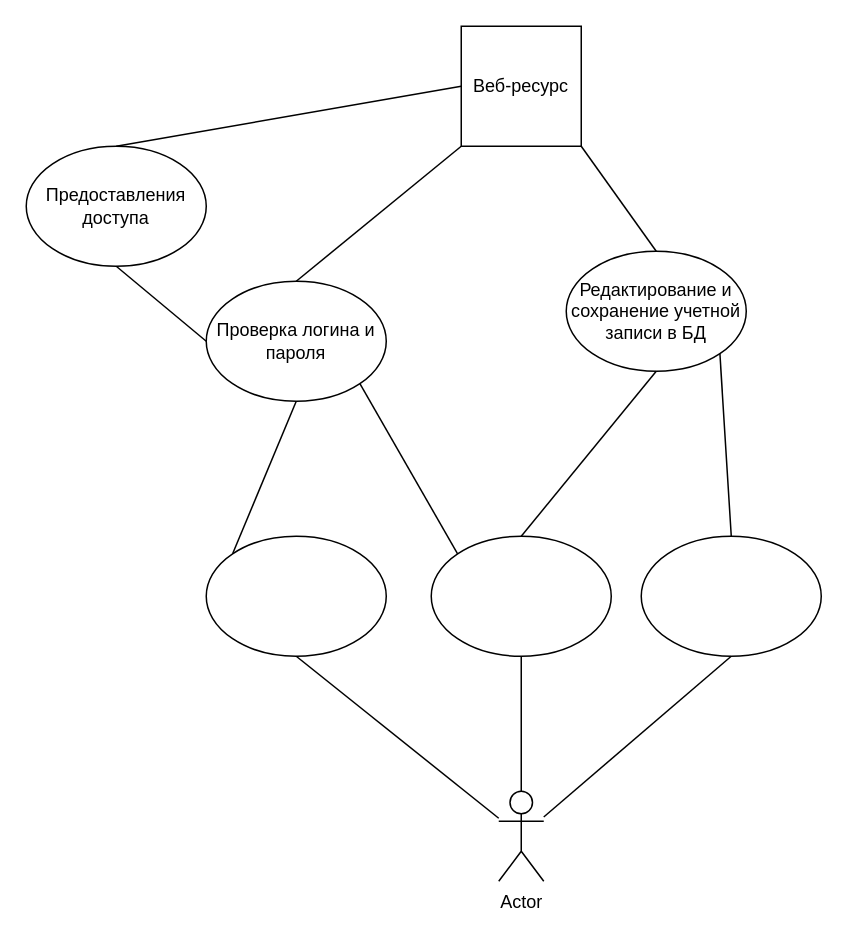
Some shapes in this 848 by 939 pixel diagram are drawn without their labels. The box of each missing label's shape, as (x1, y1, x2, y2) in pixels:
Ввод логина и пароля для получения авторизации: (205, 535, 386, 656)
Восстановление пароля для возможности авторизоваться: (430, 535, 611, 656)
Регистрация, для создания личного кабинета: (640, 535, 821, 656)
